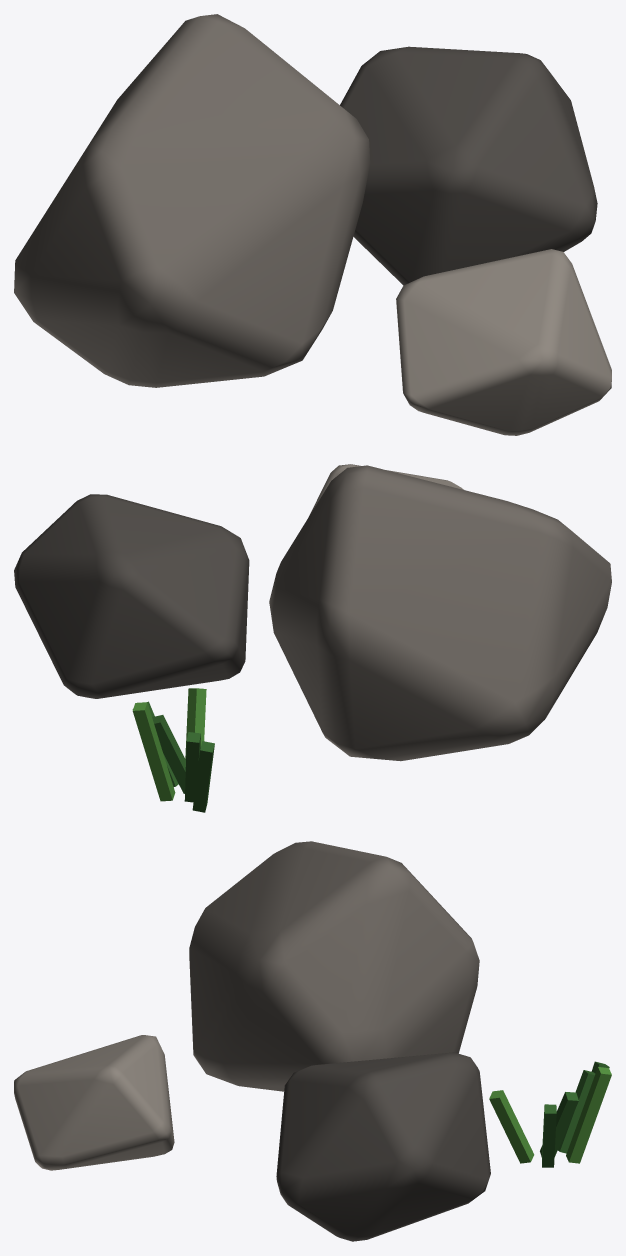
File: rocher_prairie_2.glb
The picture shows the model from 3 angles, top to bottom: view 1: azimuth 30°, elevation 25°; view 2: azimuth 150°, elevation 25°; view 3: azimuth 270°, elevation 25°; orthographic projection. The views are drawn at different scales.
Visible parts, largest first — view 1: roche_pierre.012, roche_pierre_sombre.010, roche_pierre_claire.006; view 2: roche_pierre.012, roche_pierre_sombre.010, herbe_feuille_sombre.002, herbe_feuille.004, roche_pierre_claire.006; view 3: roche_pierre.012, roche_pierre_sombre.010, roche_pierre_claire.006, herbe_feuille.004, herbe_feuille_sombre.002.
Part boxes in pixels (x1,y1,x2,y2): roche_pierre.012: (14,14,370,387); roche_pierre_sombre.010: (340,46,597,285); roche_pierre_claire.006: (396,249,611,435); roche_pierre.012: (269,465,611,761); roche_pierre_sombre.010: (14,494,249,698); herbe_feuille_sombre.002: (132,701,214,812); herbe_feuille.004: (132,688,206,801); roche_pierre_claire.006: (309,464,463,515); roche_pierre.012: (189,841,479,1091); roche_pierre_sombre.010: (276,1052,490,1241); roche_pierre_claire.006: (14,1035,174,1170); herbe_feuille.004: (489,1067,611,1163); herbe_feuille_sombre.002: (540,1061,609,1167).
Size of the model in its own units: 0.8013 by 0.4218 by 0.8768.
